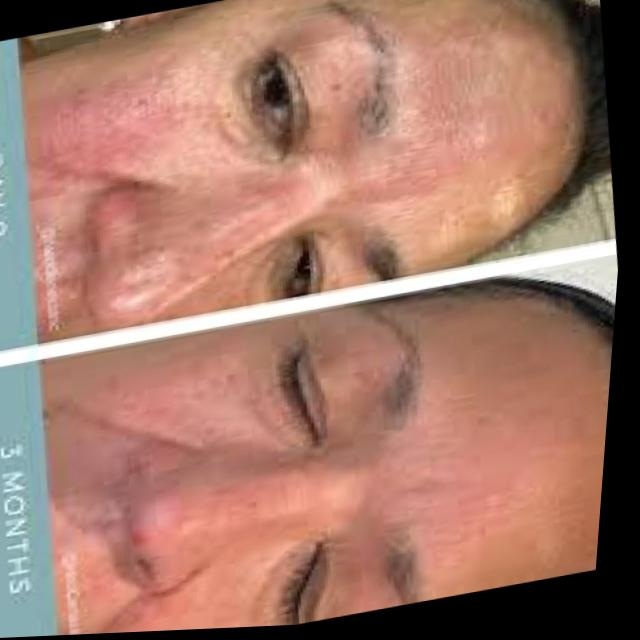Rosacea: (93, 195, 300, 317), (38, 57, 190, 184), (394, 58, 524, 193)
